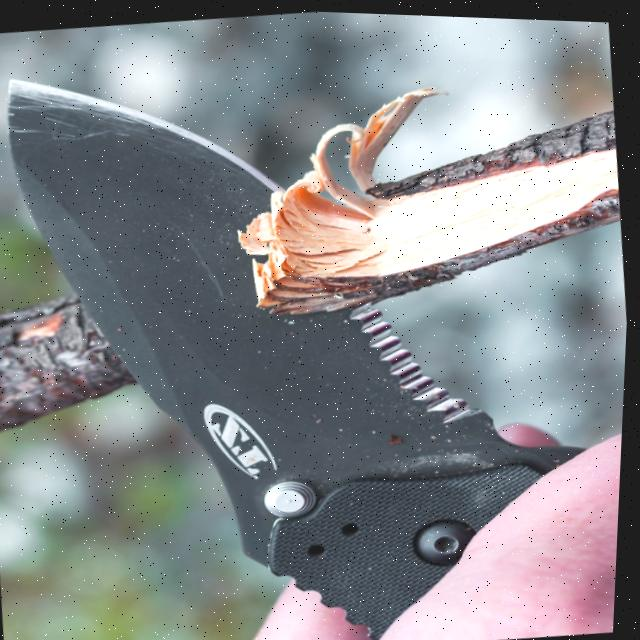knife: (0, 13, 632, 640)
